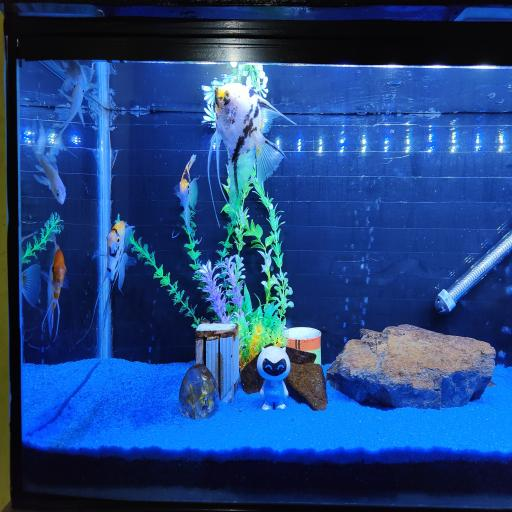Fish: (208, 83, 295, 205), (94, 221, 136, 333), (56, 61, 94, 132), (34, 123, 66, 204), (42, 235, 66, 340), (175, 155, 197, 232), (56, 82, 84, 133), (61, 60, 93, 93), (22, 264, 41, 307)
